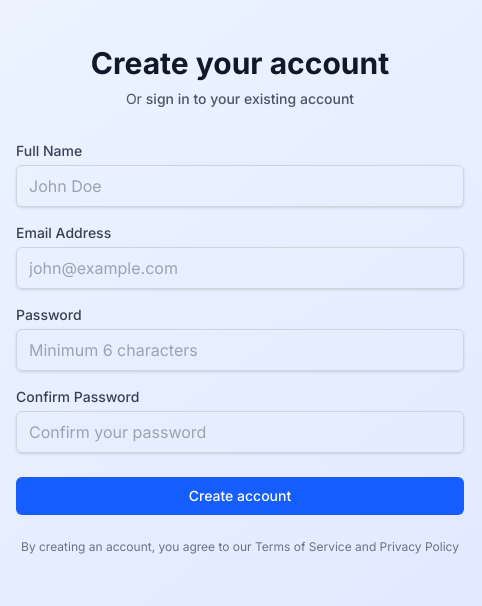
Test case: Navigation Improvements › Form Validation and Error Handling › should handle registration validation errors
// Fill in form with mismatched passwords
Type "Test User" into the field with placeholder "John Doe".
click(240, 186); type("Test User")  # box [16, 165, 464, 207]
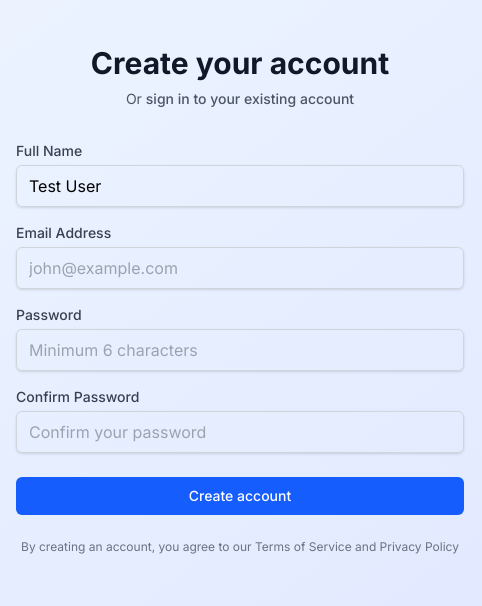
Type "test@example.com" into the field with placeholder "john@example.com".
click(240, 268); type("test@example.com")  # box [16, 247, 464, 289]
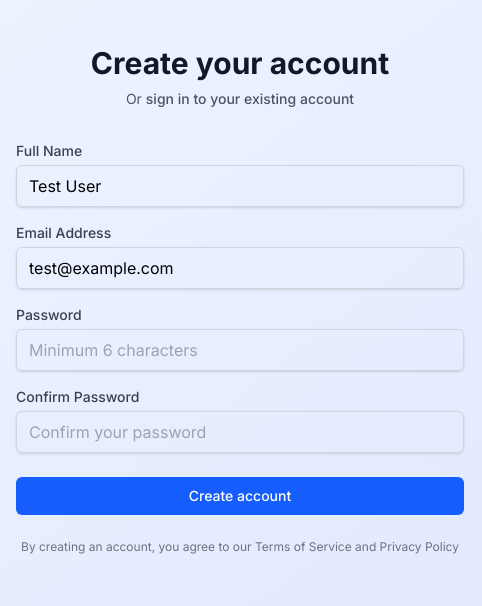
Type "password123" into the password field with placeholder "Minimum 6 characters".
click(240, 350); type("password123")  # box [16, 329, 464, 371]
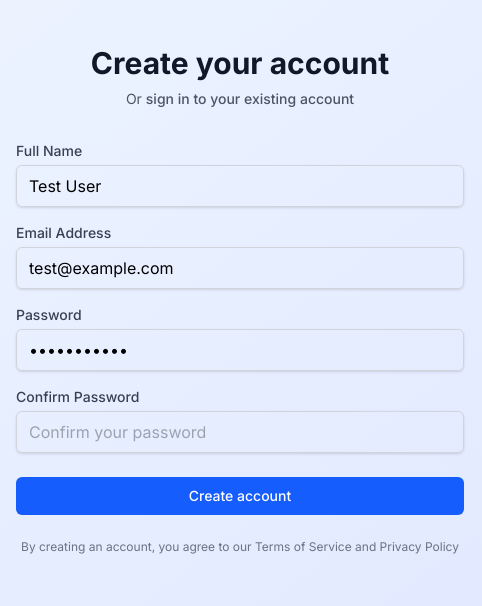
Type "differentpassword" into the password field with placeholder "Confirm your password".
click(240, 432); type("differentpassword")  # box [16, 411, 464, 453]
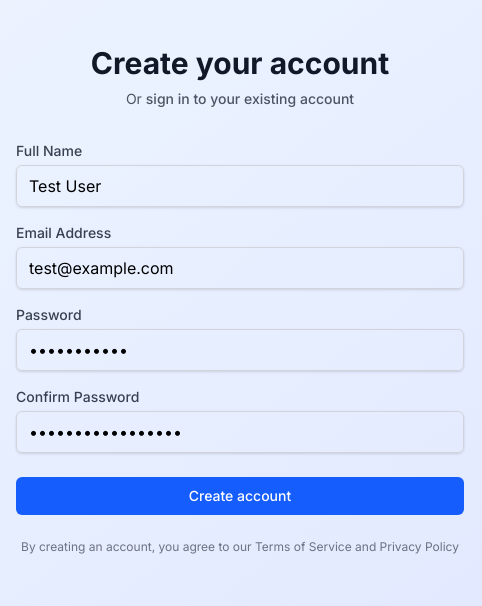
// Submit form
Click the button "Create account".
click(240, 496)  # box [16, 477, 464, 515]
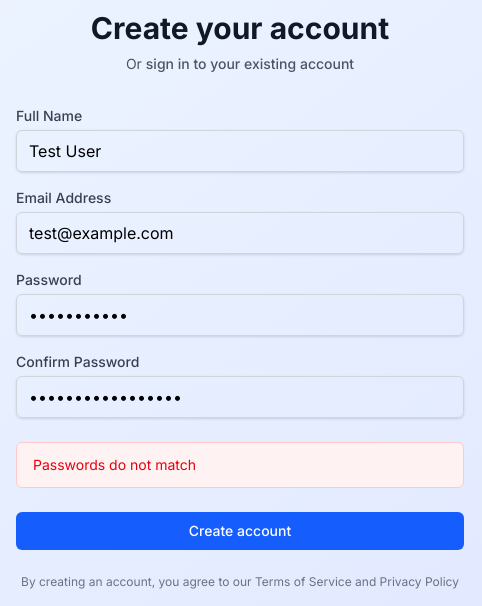
Check: the text "Passwords do not match" is shown, box [16, 442, 464, 488]
